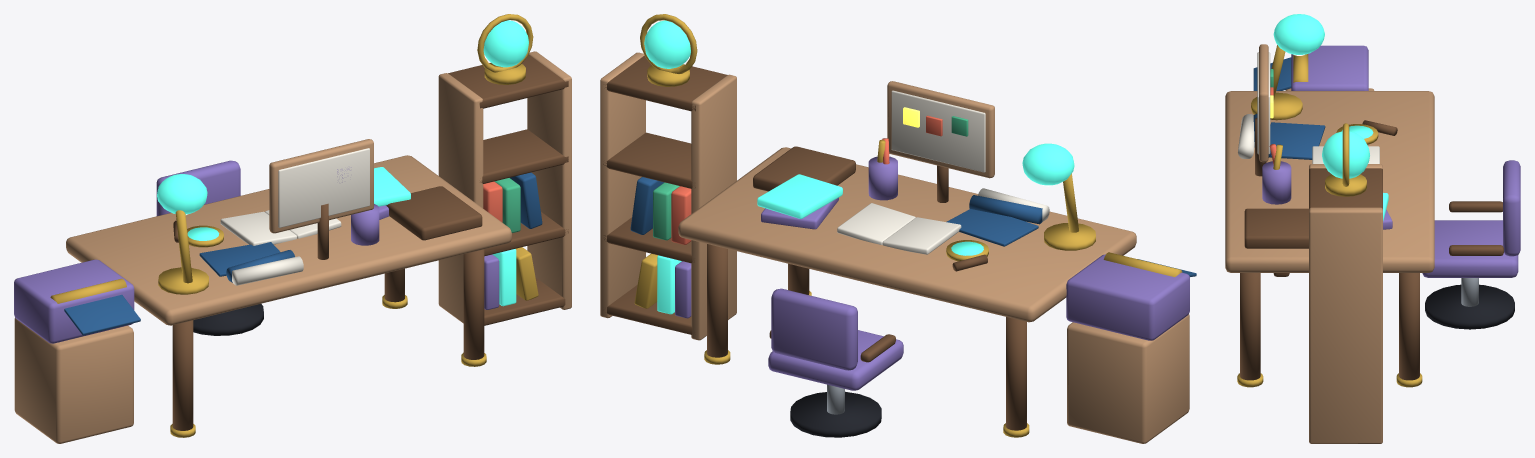
The model's file is Workstation_Research.fbx.
3 renders of one model, left to right at view 1: azimuth 30°, elevation 25°; view 2: azimuth 150°, elevation 25°; view 3: azimuth 270°, elevation 25°, orthographic. The views are drawn at different scales.
Visible parts, largest first — view 1: Research_DeskTop, Research_PrinterStand, Research_BookshelfLeftWall, Research_BookshelfRightWall, Research_WhiteboardSurface, Research_BlueprintPrinter, Research_FilingTray, Research_ShelfPlank_3, Research_ShelfPlank_4, Research_DeskLeg_1, Research_DeskLeg_2, Research_WhiteboardFrame (+25 smaller); view 2: Research_DeskTop, Research_PrinterStand, Research_BlueprintPrinter, Research_BookshelfRightWall, Research_BookshelfLeftWall, Research_ChairBack, Research_WhiteboardSurface, Research_ShelfPlank_3, Research_ChairSeat, Research_ChairBase, Research_ShelfPlank_4, Research_FilingTray (+26 smaller); view 3: Research_DeskTop, Research_BookshelfLeftWall, Research_ChairSeat, Research_ChairBase, Research_BlueprintPrinter, Research_FilingTray, Research_DeskLeg_4, Research_DeskLeg_2, Research_ShelfPlank_4, Research_ChairBack, Research_LampShade, Research_BlueprintSheet (+15 smaller).
Part boxes in pixels (bbox=[...]): Research_DeskTop: bbox=[66, 155, 511, 325]; Research_PrinterStand: bbox=[14, 317, 133, 443]; Research_BookshelfLeftWall: bbox=[527, 51, 571, 309]; Research_BookshelfRightWall: bbox=[438, 73, 483, 323]; Research_WhiteboardSurface: bbox=[278, 148, 369, 227]; Research_BlueprintPrinter: bbox=[14, 259, 134, 343]; Research_FilingTray: bbox=[386, 186, 482, 240]; Research_ShelfPlank_3: bbox=[480, 129, 568, 183]; Research_ShelfPlank_4: bbox=[448, 54, 568, 108]; Research_DeskLeg_1: bbox=[172, 320, 193, 430]; Research_DeskLeg_2: bbox=[463, 249, 484, 359]; Research_WhiteboardFrame: bbox=[269, 139, 373, 233]; Research_DeskTop: bbox=[678, 147, 1136, 322]; Research_PrinterStand: bbox=[1067, 314, 1189, 443]; Research_BlueprintPrinter: bbox=[1066, 254, 1189, 340]; Research_BookshelfRightWall: bbox=[691, 74, 736, 340]; Research_BookshelfLeftWall: bbox=[600, 52, 645, 318]; Research_ChairBack: bbox=[771, 288, 857, 370]; Research_WhiteboardSurface: bbox=[891, 90, 985, 172]; Research_ShelfPlank_3: bbox=[603, 132, 695, 188]; Research_ChairSeat: bbox=[768, 330, 903, 390]; Research_ChairBase: bbox=[790, 391, 881, 437]; Research_ShelfPlank_4: bbox=[605, 55, 726, 111]; Research_FilingTray: bbox=[753, 146, 855, 191]; Research_DeskTop: bbox=[1225, 91, 1434, 272]; Research_BookshelfLeftWall: bbox=[1309, 207, 1382, 443]; Research_ChairSeat: bbox=[1422, 220, 1518, 277]; Research_ChairBase: bbox=[1425, 284, 1514, 329]; Research_BlueprintPrinter: bbox=[1291, 45, 1368, 90]; Research_FilingTray: bbox=[1244, 208, 1308, 248]; Research_DeskLeg_4: bbox=[1399, 273, 1419, 380]; Research_DeskLeg_2: bbox=[1240, 273, 1260, 380]; Research_ShelfPlank_4: bbox=[1309, 168, 1382, 208]; Research_ChairBack: bbox=[1503, 160, 1520, 256]; Research_LampShade: bbox=[1273, 14, 1324, 54]; Research_BlueprintSheet: bbox=[1270, 122, 1325, 159].
Bounding box in the file's own units: 38.35 × 20.18 × 18.35.
